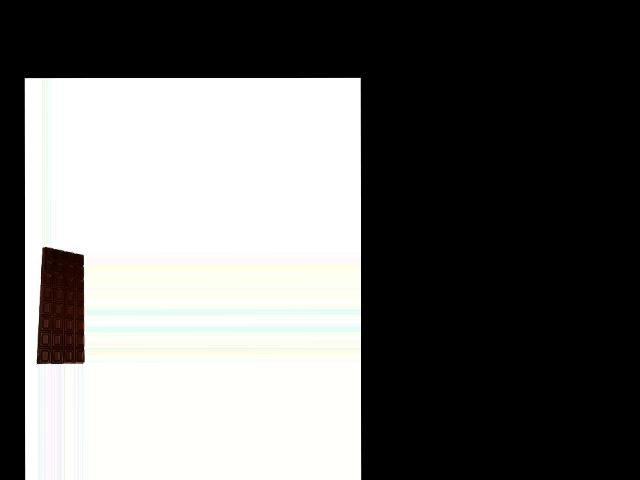chocolate: (38, 245, 84, 365)
